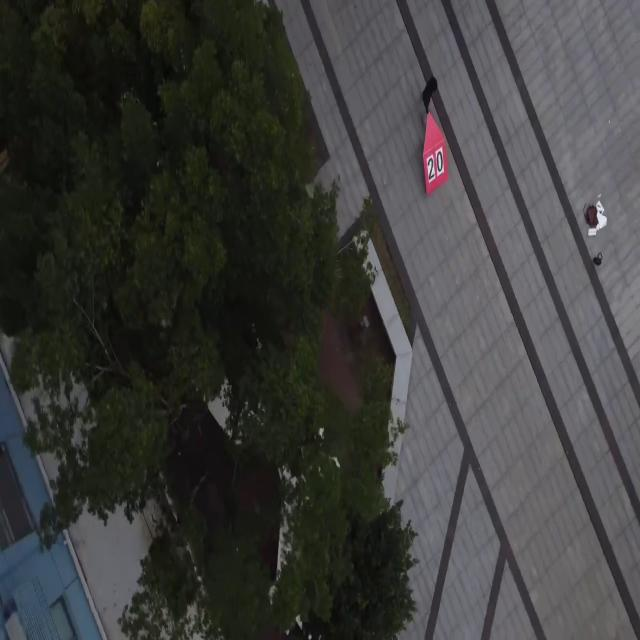-sign-: (422, 111, 448, 196)
